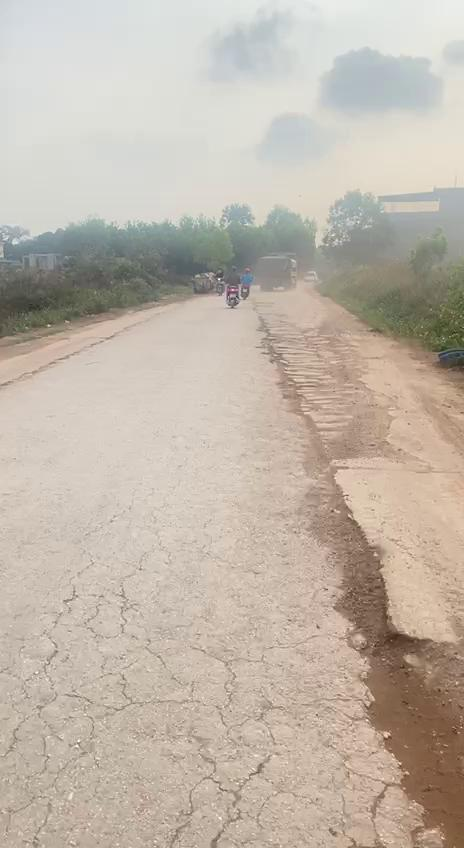pothole: (326, 566, 464, 848)
